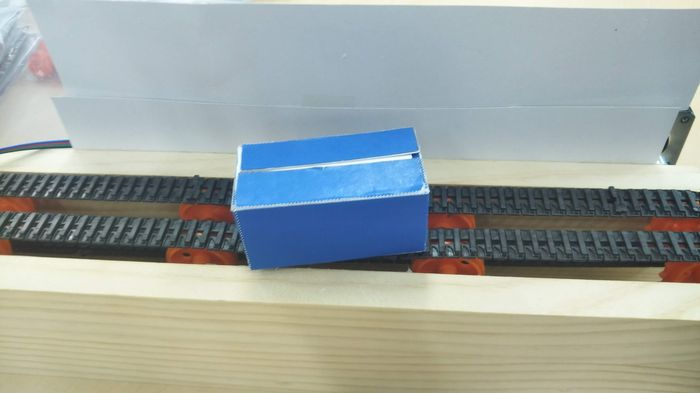box3: (226, 124, 433, 273)
